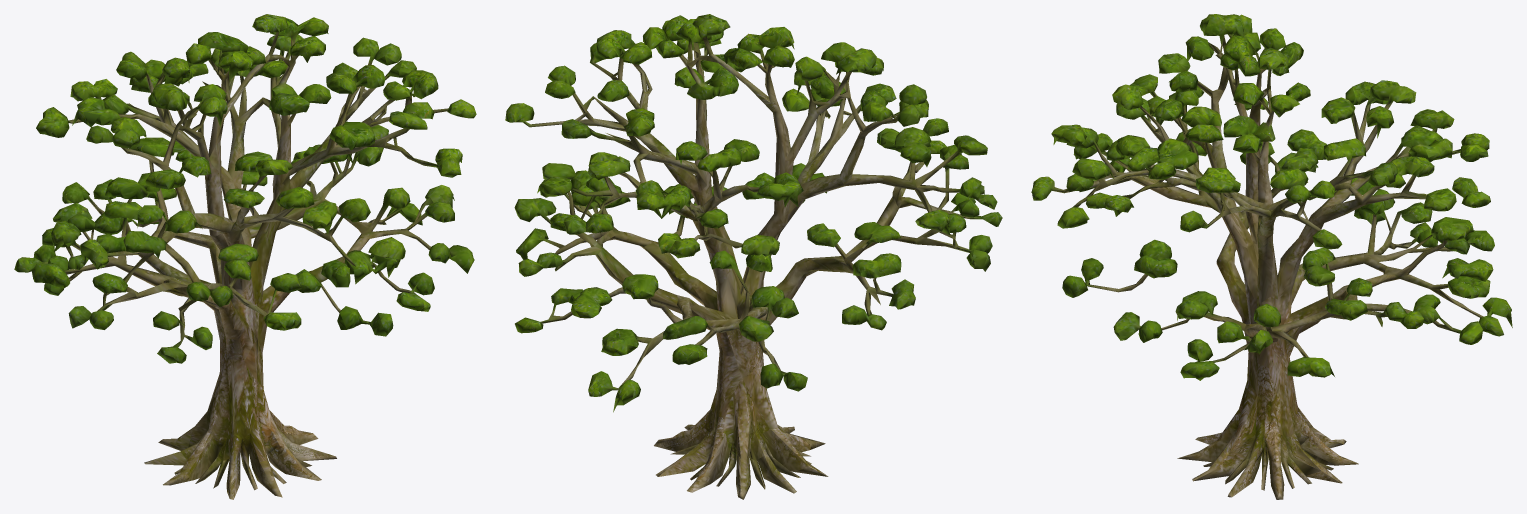
File: VEG_ArbolTropical_02_LOD1.fbx
The picture shows the model from 3 angles, left to right: view 1: azimuth 30°, elevation 25°; view 2: azimuth 150°, elevation 25°; view 3: azimuth 270°, elevation 25°; orthographic projection. The views are drawn at different scales.
Visible parts, largest first — view 1: VEG_ArbolTropical_02_Mesh000; view 2: VEG_ArbolTropical_02_Mesh000; view 3: VEG_ArbolTropical_02_Mesh000.
Part boxes in pixels (x1,y1,x2,y2): VEG_ArbolTropical_02_Mesh000: [14, 14, 476, 499]; VEG_ArbolTropical_02_Mesh000: [505, 14, 1002, 499]; VEG_ArbolTropical_02_Mesh000: [1031, 14, 1512, 499].
Bounding box in the file's own units: 16.25 × 16 × 16.47.
